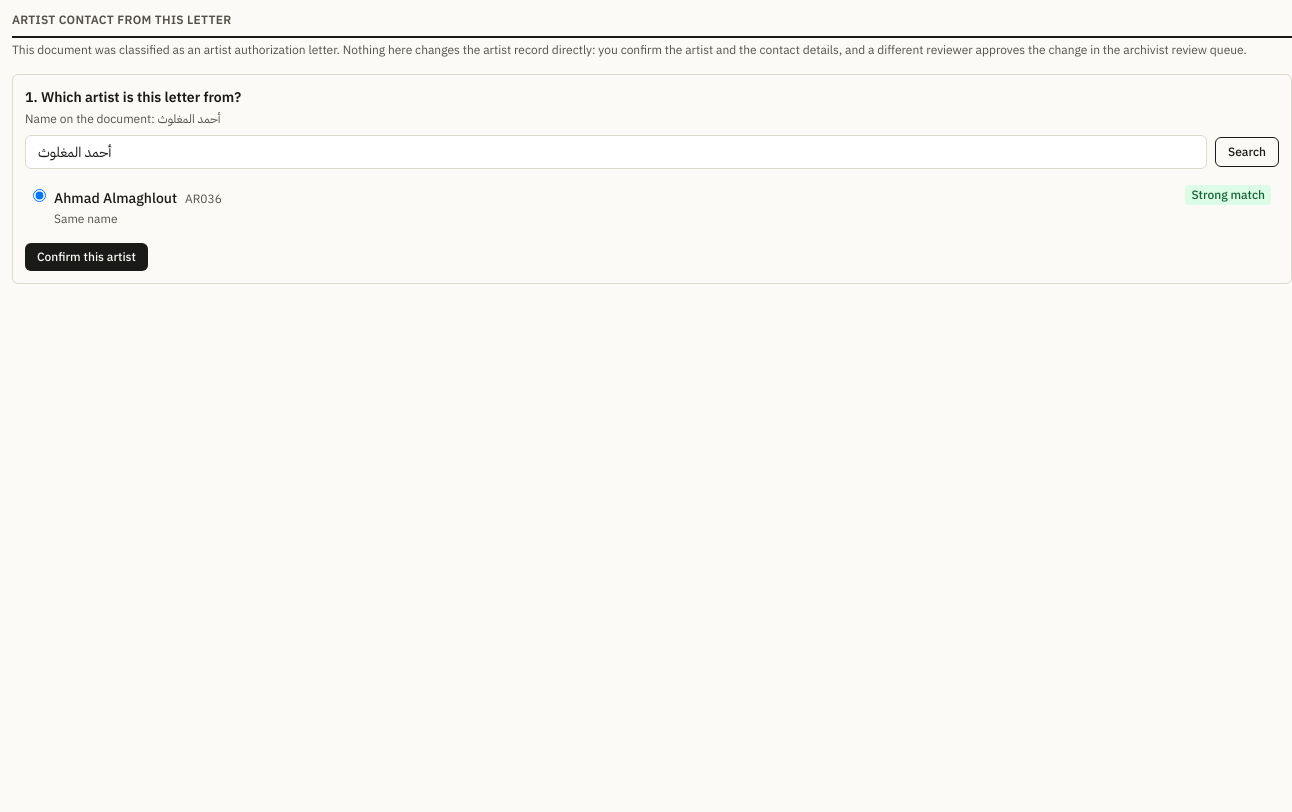
Scenario: OcrArtistContactPanel › confirms the selected candidate
What coordinates should you click on to do the following:
click the button with test id "artist-contact-confirm"
I would click on:
 (86, 257)
Its box is [25,243,148,271].
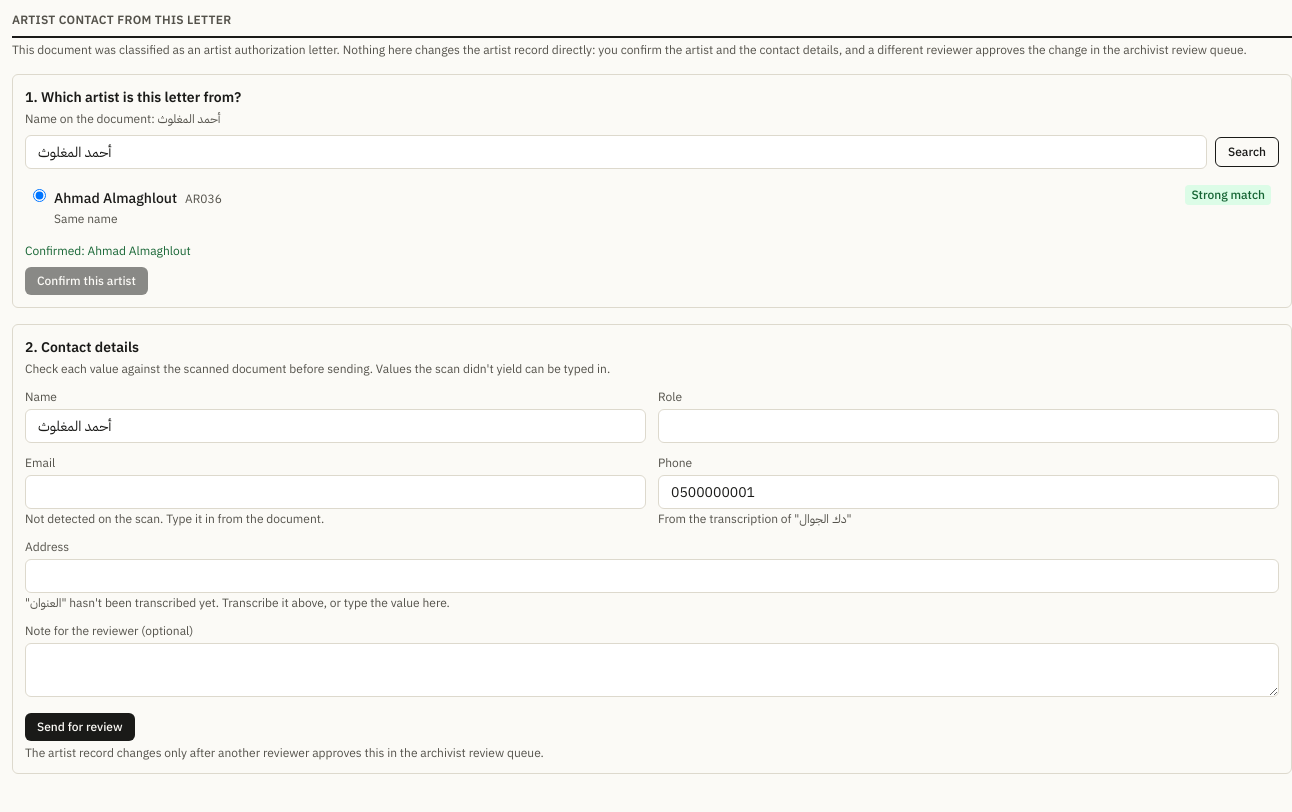
Now the element with test id "artist-contact-form" is shown, box [12,324,1291,774]
